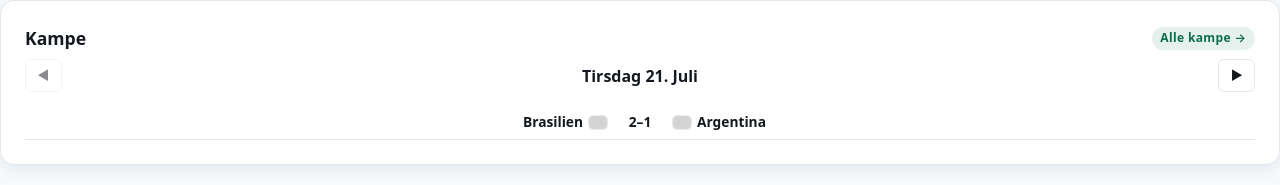
Test case: DayMatchesCard › viser dagens kampe og kan bladre til en anden dag
Expected: the text "Brasilien" is shown, [523,112,583,132]
Expected: the text "2–1" is shown, [629,112,651,131]
Bladr en dag frem.
Click the button with test id "day-next": (1237, 76) [1218,59,1255,92]
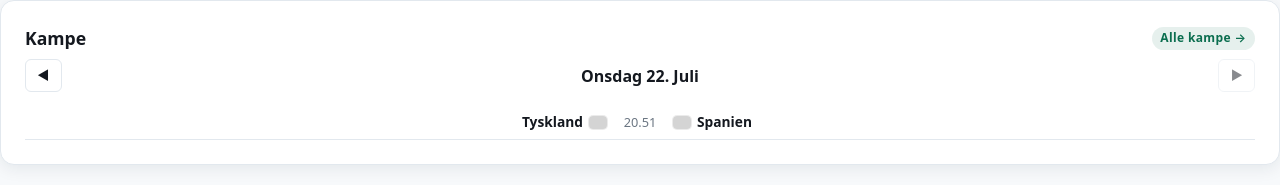
Expected: the text "Tyskland" is shown, [522,112,583,132]
Expected: the link "Brasilien" is gone
